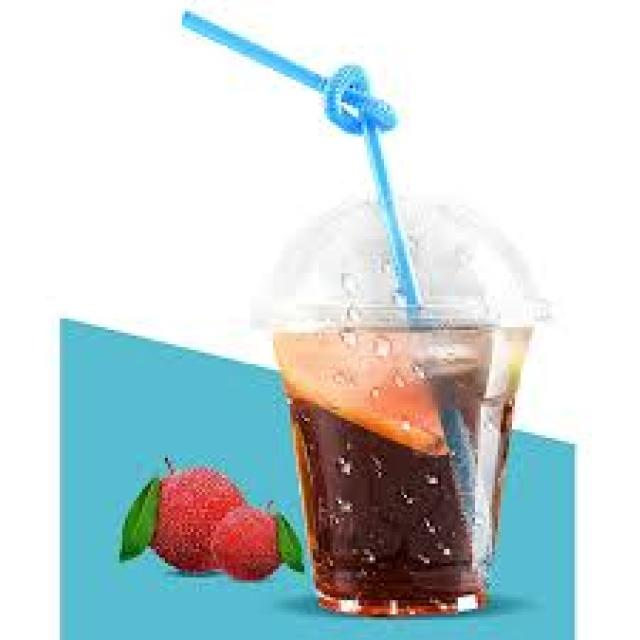bottle: (276, 329, 531, 614)
